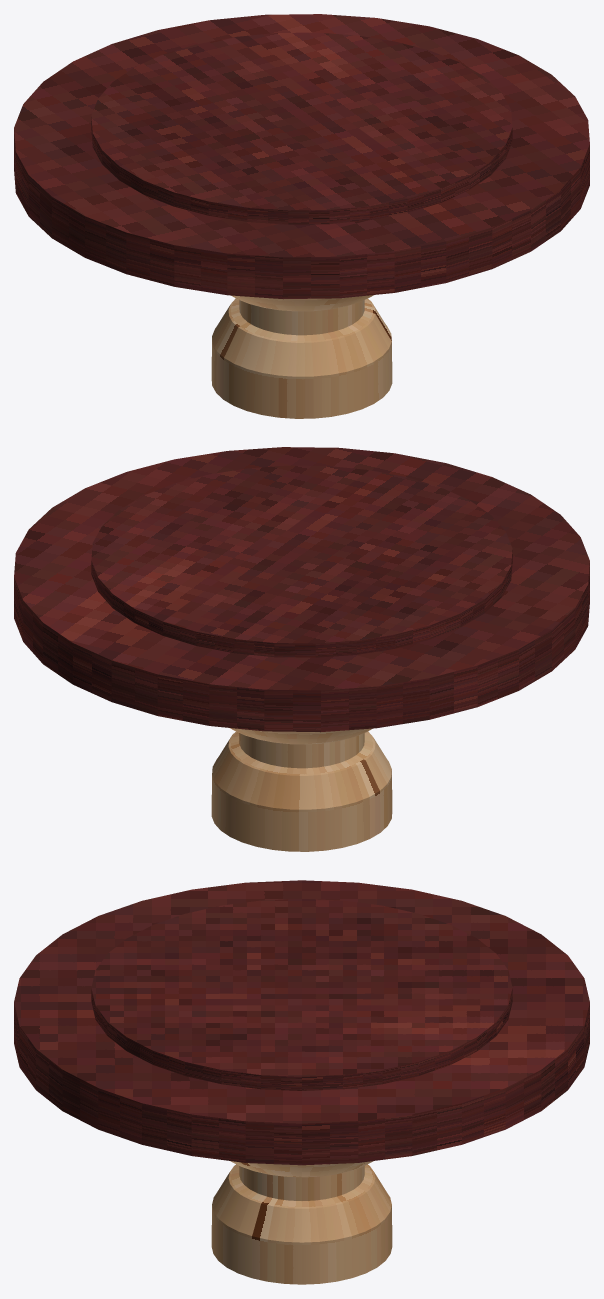
The model's file is table.fbx.
3 renders of one model, top to bottom at view 1: azimuth 30°, elevation 25°; view 2: azimuth 150°, elevation 25°; view 3: azimuth 270°, elevation 25°, orthographic.
Parts seen in each view (by area): view 1: Cylinder.007, Cylinder.009; view 2: Cylinder.007, Cylinder.009; view 3: Cylinder.007, Cylinder.009.
Boxes of the visible parts, left/top/right/bottom form: Cylinder.007: left=14, top=14, right=589, bottom=299; Cylinder.009: left=211, top=295, right=392, bottom=418; Cylinder.007: left=14, top=447, right=589, bottom=732; Cylinder.009: left=211, top=728, right=392, bottom=851; Cylinder.007: left=14, top=880, right=589, bottom=1165; Cylinder.009: left=211, top=1161, right=392, bottom=1284.
Size of the model in its own units: 206 by 206 by 102.
